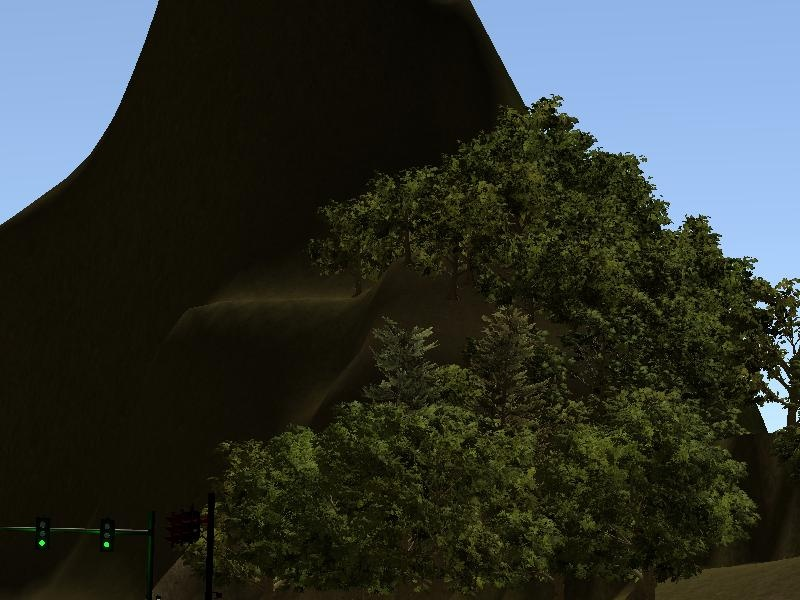Green: (100, 519, 115, 553), (35, 516, 49, 551)
